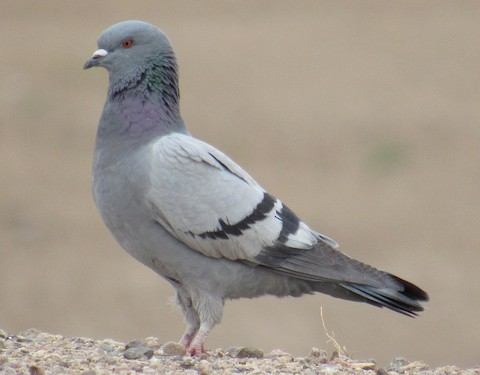pigeon: (79, 17, 427, 354)
